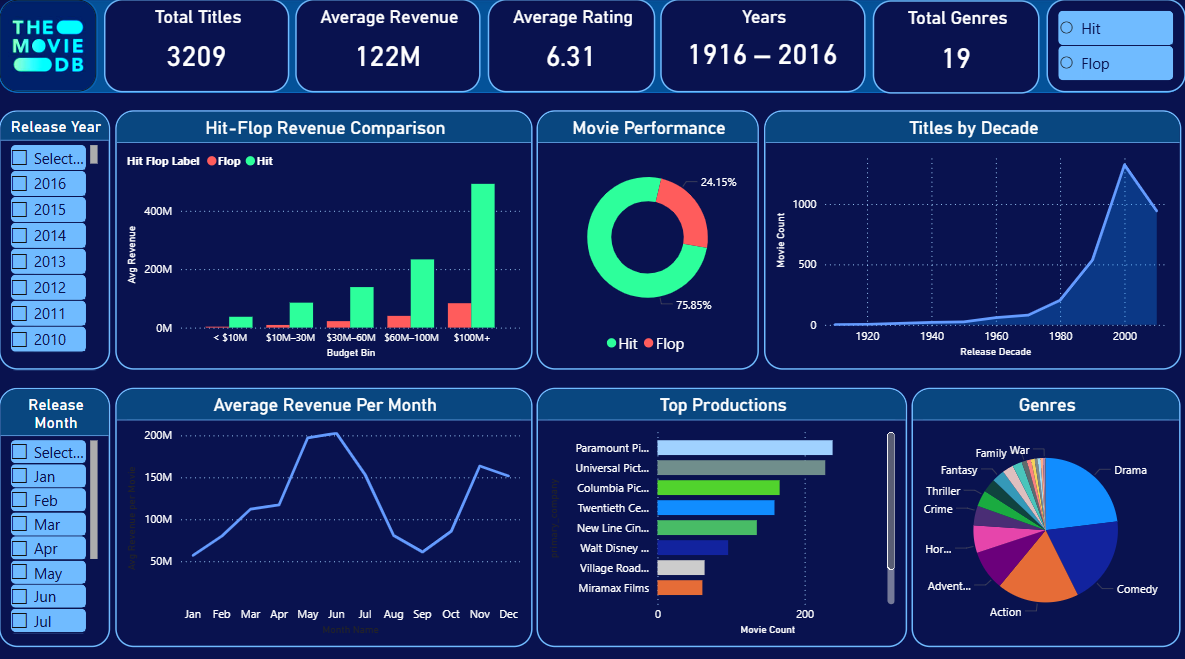

Layout of this report page (visuals, bound fields, positions):
{"tool":"powerbi","page":{"name":"Page 1","canvas":[1280,720],"ordinal":0},"visuals":[{"type":"shape","box":[0,1,1280,100],"z":0},{"type":"image","box":[0,0,106,101],"z":1000},{"type":"pieChart","title":"Genres","fields":{"Category":["Movies.primary_genre"],"Y":["Movies.Movie Count"]},"box":[985,420,290,280],"z":2000},{"type":"barChart","title":"Top Productions","fields":{"Category":["Movies.primary_company"],"Y":["Movies.Movie Count"],"Series":["Movies.primary_company"]},"box":[580,420,400,280],"z":3000},{"type":"listSlicer","title":"Release Year","fields":{"Values":["Movies.release_year"]},"box":[0,120,120,280],"z":4000},{"type":"lineChart","title":"Average Revenue Per Month","fields":{"Category":["Movies.Month Name"],"Y":["Movies.Avg Revenue per Movie"]},"box":[125,420,450,280],"z":5000},{"type":"donutChart","title":"Movie Performance","fields":{"Category":["Movies.Hit Flop Label"],"Y":["Movies.Movie Count"]},"box":[580,120,240,280],"z":6000},{"type":"clusteredColumnChart","title":"Hit-Flop Revenue Comparison","fields":{"Category":["Movies.Budget Bin"],"Y":["Movies.Avg Revenue"],"Series":["Movies.Hit Flop Label"]},"box":[125,120,450.6,280],"z":7000},{"type":"cardVisual","title":"Years","fields":{"Data":["Movies.Selected Year(s) (Range)"]},"box":[714,0,221.2,101.2],"z":8000},{"type":"areaChart","title":"Titles by Decade","fields":{"Category":["Movies.Release Decade"],"Y":["Movies.Movie Count"]},"box":[825,120,450,280],"z":9000},{"type":"cardVisual","title":"Total Titles","fields":{"Data":["Count(Movies.original_title)"]},"box":[113,0,200,101.2],"z":10000},{"type":"cardVisual","title":"Total Genres","fields":{"Data":["Count(Movies.primary_genre)"]},"box":[943,1.3,180,101.2],"z":11000},{"type":"listSlicer","title":"Release Month","fields":{"Values":["Movies.Month Name"]},"box":[0,420,120,280],"z":12000},{"type":"cardVisual","title":"Average Rating","fields":{"Data":["Avg(Movies.vote_average)"]},"box":[527,0,180.8,101.2],"z":13000},{"type":"listSlicer","title":"Release Year","fields":{"Values":["Movies.Hit Flop Label"]},"box":[1130,0,150,101],"z":14000},{"type":"cardVisual","title":"Average Revenue","fields":{"Data":["Movies.Avg Revenue per Movie"]},"box":[320,0,200,101.2],"z":15000}]}

Visuals, with their boxes in screenshot pixels (x1, y1, x2, y2), scaled from the page's 1280x720 canvas onto the 1185x659 screenshot:
shape: crop(0, 1, 1184, 92)
image: crop(0, 0, 98, 92)
"Genres" pieChart: crop(912, 384, 1180, 641)
"Top Productions" barChart: crop(537, 384, 907, 641)
"Release Year" listSlicer: crop(0, 110, 111, 366)
"Average Revenue Per Month" lineChart: crop(116, 384, 532, 641)
"Movie Performance" donutChart: crop(537, 110, 759, 366)
"Hit-Flop Revenue Comparison" clusteredColumnChart: crop(116, 110, 533, 366)
"Years" cardVisual: crop(661, 0, 866, 93)
"Titles by Decade" areaChart: crop(764, 110, 1180, 366)
"Total Titles" cardVisual: crop(105, 0, 290, 93)
"Total Genres" cardVisual: crop(873, 1, 1040, 94)
"Release Month" listSlicer: crop(0, 384, 111, 641)
"Average Rating" cardVisual: crop(488, 0, 655, 93)
"Release Year" listSlicer: crop(1046, 0, 1184, 92)
"Average Revenue" cardVisual: crop(296, 0, 481, 93)
